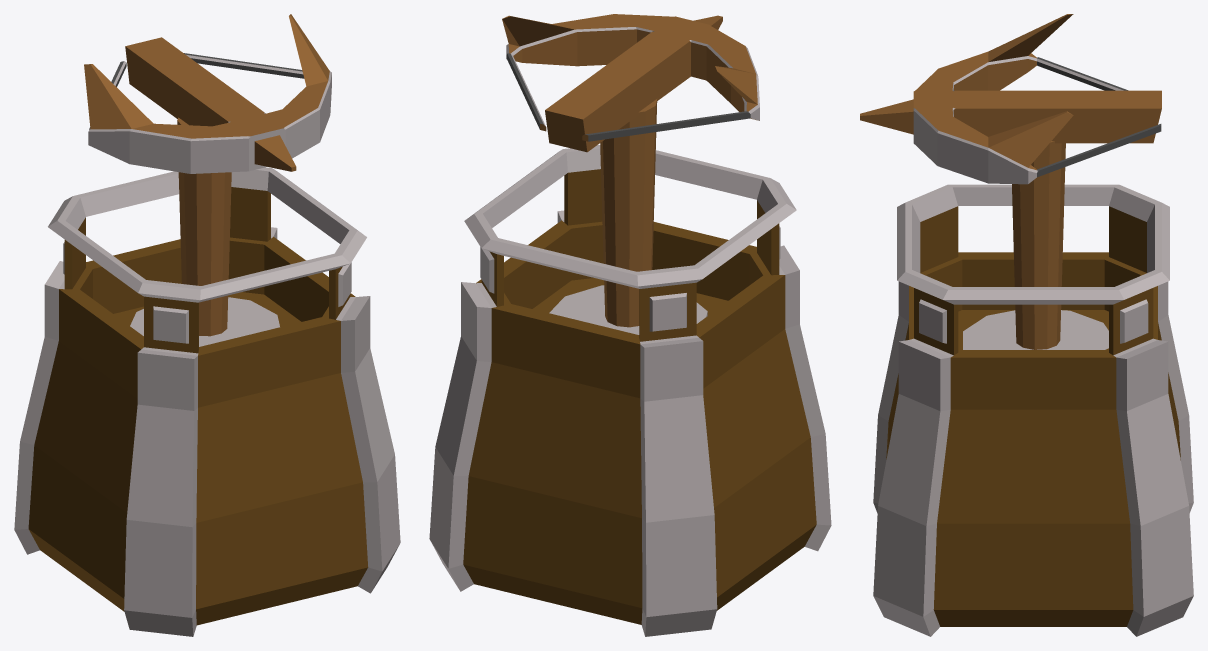
File: Torre_Nv3.glb
The picture shows the model from 3 angles, left to right: view 1: azimuth 30°, elevation 25°; view 2: azimuth 150°, elevation 25°; view 3: azimuth 270°, elevation 25°; orthographic projection. The views are drawn at different scales.
Visible parts, largest first — view 1: NIVEL3, Turret.006; view 2: NIVEL3, Turret.006; view 3: NIVEL3, Turret.006.
Part boxes in pixels (box(x1,y1,x2,y2)): NIVEL3: box(14, 167, 400, 636); Turret.006: box(84, 14, 331, 346); NIVEL3: box(429, 145, 831, 636); Turret.006: box(502, 14, 759, 334); NIVEL3: box(873, 184, 1193, 636); Turret.006: box(860, 14, 1161, 349).
Bounding box in the file's own units: 1.15 × 2.02 × 1.19.
